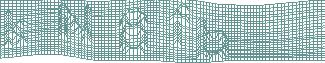8: (115, 10, 150, 55)
N: (56, 1, 95, 48)
b: (195, 17, 230, 61)
f: (167, 3, 192, 50)
k: (2, 8, 29, 49)
